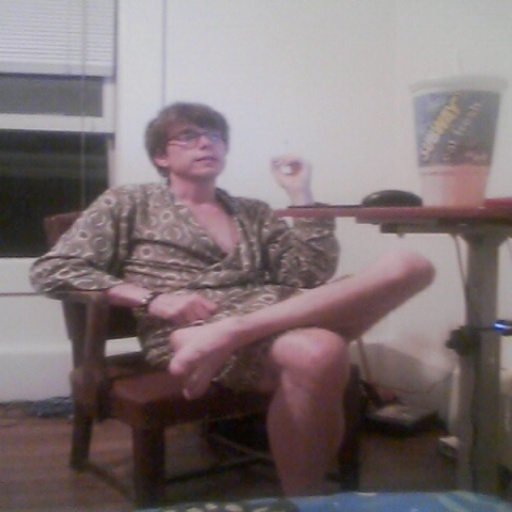hand: (143, 294, 220, 323), (268, 156, 314, 190)
